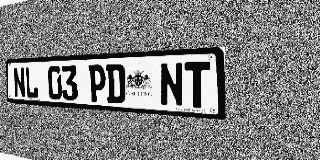0: (47, 66, 62, 100)
3: (62, 65, 78, 101)
D: (106, 64, 126, 104)
L: (25, 67, 38, 99)
N: (160, 62, 184, 107), (13, 67, 25, 98)
P: (88, 65, 106, 103)
T: (184, 61, 211, 109)
